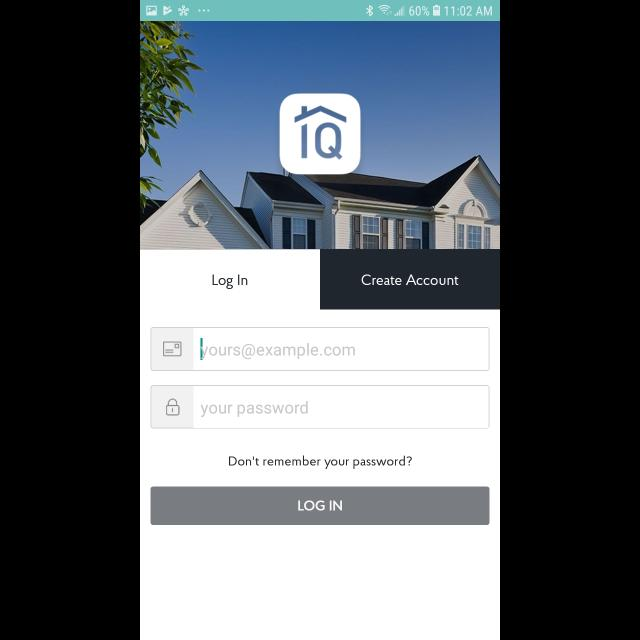icon: (164, 341, 182, 357), (166, 398, 180, 416)
image: (140, 22, 500, 250), (280, 94, 360, 174)
input: (150, 328, 490, 372), (150, 386, 490, 428)
text: (230, 455, 412, 469), (201, 343, 355, 359), (202, 401, 308, 417), (212, 274, 248, 290)
textbutton: (150, 487, 490, 525), (320, 250, 500, 310)
uppertaskbar: (140, 1, 500, 22)
